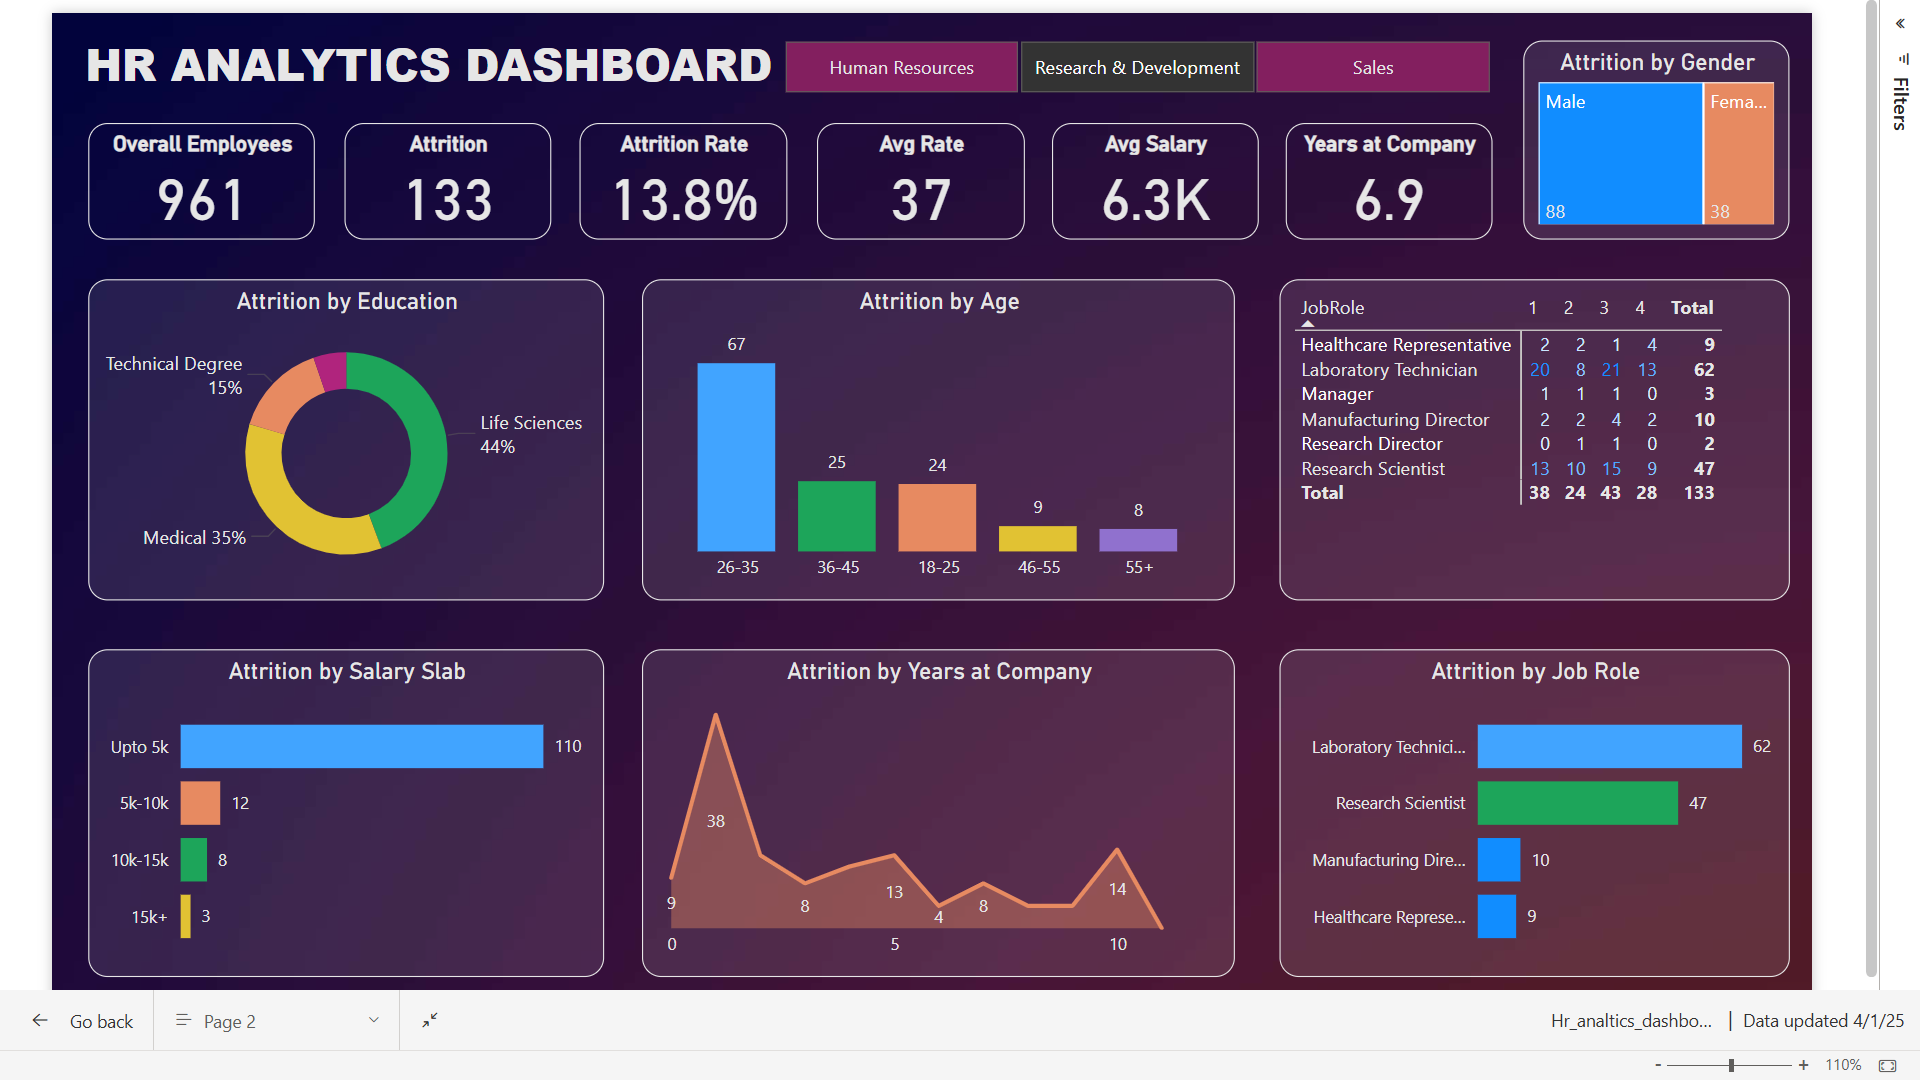

The dashboard page shown, as its layout file describes it:
{"tool":"powerbi","page":{"name":"Page 2","canvas":[1280,720],"ordinal":0},"visuals":[{"type":"card","title":"Overall Employees","fields":{"Values":["CountNonNull(HR_Analytics.EmpID)"]},"box":[26.2,80,165,85],"z":0},{"type":"card","title":"Avg Rate","fields":{"Values":["Avg(HR_Analytics.Age)"]},"box":[556.2,80,151.2,85],"z":1000},{"type":"card","title":"Attrition Rate","fields":{"Values":["HR_Analytics.AttritionRate"]},"box":[383.8,80,151.2,85],"z":2000},{"type":"card","title":"Attrition","fields":{"Values":["Sum(HR_Analytics.AttritionCount)"]},"box":[212.5,80,150,85],"z":3000},{"type":"card","title":"Avg Salary","fields":{"Values":["Avg(HR_Analytics.MonthlyIncome)"]},"box":[727.5,80,150,85],"z":4000},{"type":"card","title":"Years at Company","fields":{"Values":["Avg(HR_Analytics.YearsAtCompany)"]},"box":[897.5,80,150,85],"z":5000},{"type":"donutChart","title":"Attrition by Education","fields":{"Y":["Sum(HR_Analytics.AttritionCount)"],"Category":["HR_Analytics.EducationField"]},"box":[26.2,193.8,375,233.8],"z":6000},{"type":"columnChart","title":"Attrition by Age","fields":{"Category":["HR_Analytics.AgeGroup"],"Y":["Sum(HR_Analytics.AttritionCount)"]},"box":[428.8,193.8,431.2,233.8],"z":7000},{"type":"pivotTable","fields":{"Rows":["HR_Analytics.JobRole"],"Columns":["HR_Analytics.JobSatisfaction"],"Values":["Sum(HR_Analytics.AttritionCount)"]},"box":[892.5,193.8,371.2,233.8],"z":8000},{"type":"barChart","title":"Attrition by Salary Slab","fields":{"Category":["HR_Analytics.SalarySlab"],"Y":["Sum(HR_Analytics.AttritionCount)"]},"box":[26.2,462.5,375,238.8],"z":9000},{"type":"barChart","title":"Attrition by Job Role","fields":{"Y":["Sum(HR_Analytics.AttritionCount)"],"Category":["HR_Analytics.JobRole"]},"box":[892.5,462.5,371.2,238.8],"z":10000},{"type":"stackedAreaChart","title":"Attrition by Years at Company","fields":{"Y":["Sum(HR_Analytics.AttritionCount)"],"Category":["HR_Analytics.YearsAtCompany"]},"box":[428.8,462.5,431.2,238.8],"z":11000},{"type":"treemap","title":"Attrition by Gender","fields":{"Group":["HR_Analytics.Gender"],"Values":["Sum(HR_Analytics.AttritionCount)"]},"box":[1070,20,193.8,145],"z":12000},{"type":"slicer","fields":{"Values":["HR_Analytics.Department"]},"box":[507.5,13.8,562.5,51.2],"z":13000},{"type":"textbox","box":[18.8,8.8,521.2,62.5],"z":14000}]}

Visuals, with their boxes on the page's 1280x720 design canvas (x1, y1, x2, y2). These are canvas units, not pixel positions in the 1920x1080 screenshot, which may show the page scaled, cropped or inside an application window:
"Overall Employees" card: 26 80 191 165
"Avg Rate" card: 556 80 707 165
"Attrition Rate" card: 384 80 535 165
"Attrition" card: 212 80 362 165
"Avg Salary" card: 728 80 878 165
"Years at Company" card: 898 80 1048 165
"Attrition by Education" donutChart: 26 194 401 428
"Attrition by Age" columnChart: 429 194 860 428
pivotTable - HR_Analytics.JobRole x HR_Analytics.JobSatisfaction: 892 194 1264 428
"Attrition by Salary Slab" barChart: 26 462 401 701
"Attrition by Job Role" barChart: 892 462 1264 701
"Attrition by Years at Company" stackedAreaChart: 429 462 860 701
"Attrition by Gender" treemap: 1070 20 1264 165
slicer - HR_Analytics.Department: 508 14 1070 65
textbox: 19 9 540 71
